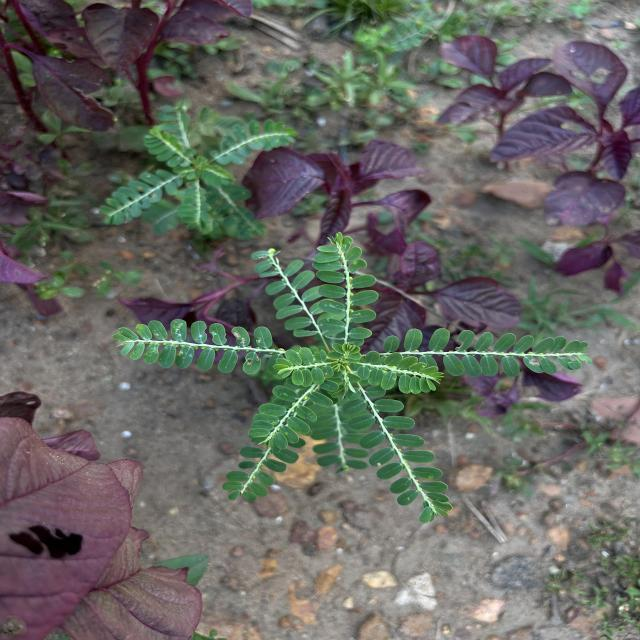Phyllanthus niruri: (340, 383, 454, 524), (381, 326, 596, 380), (110, 316, 276, 376), (310, 230, 380, 352), (247, 384, 334, 450), (354, 350, 448, 396), (270, 346, 338, 388)
